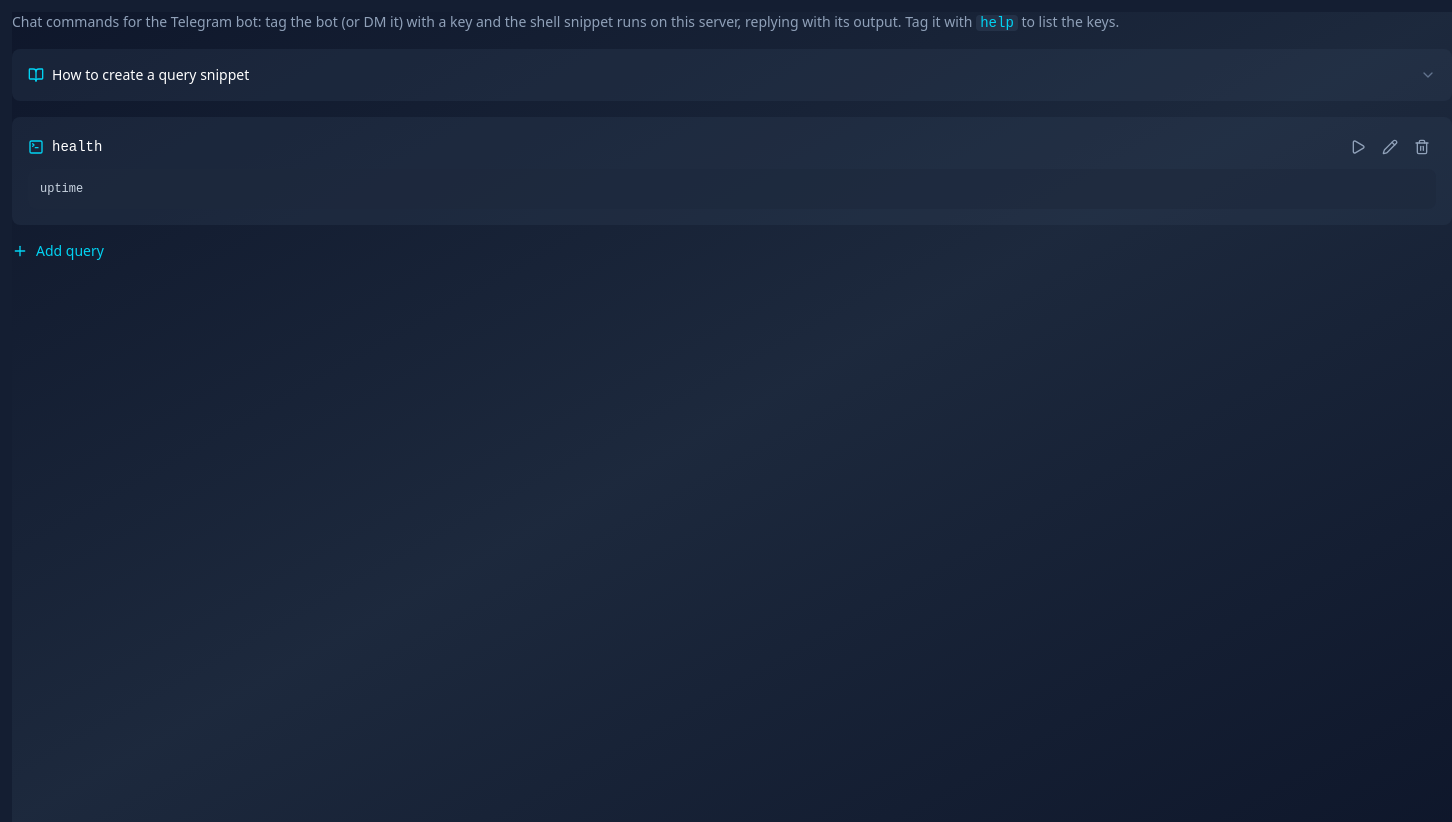
it: QueriesSettings - run and delete › shows the error, "(no output)", or a failure line in the output box
Expected: the text "health" is shown, [52, 137, 102, 157]
Click the button titled "Run now".
click(1358, 147)  # box [1344, 133, 1372, 161]
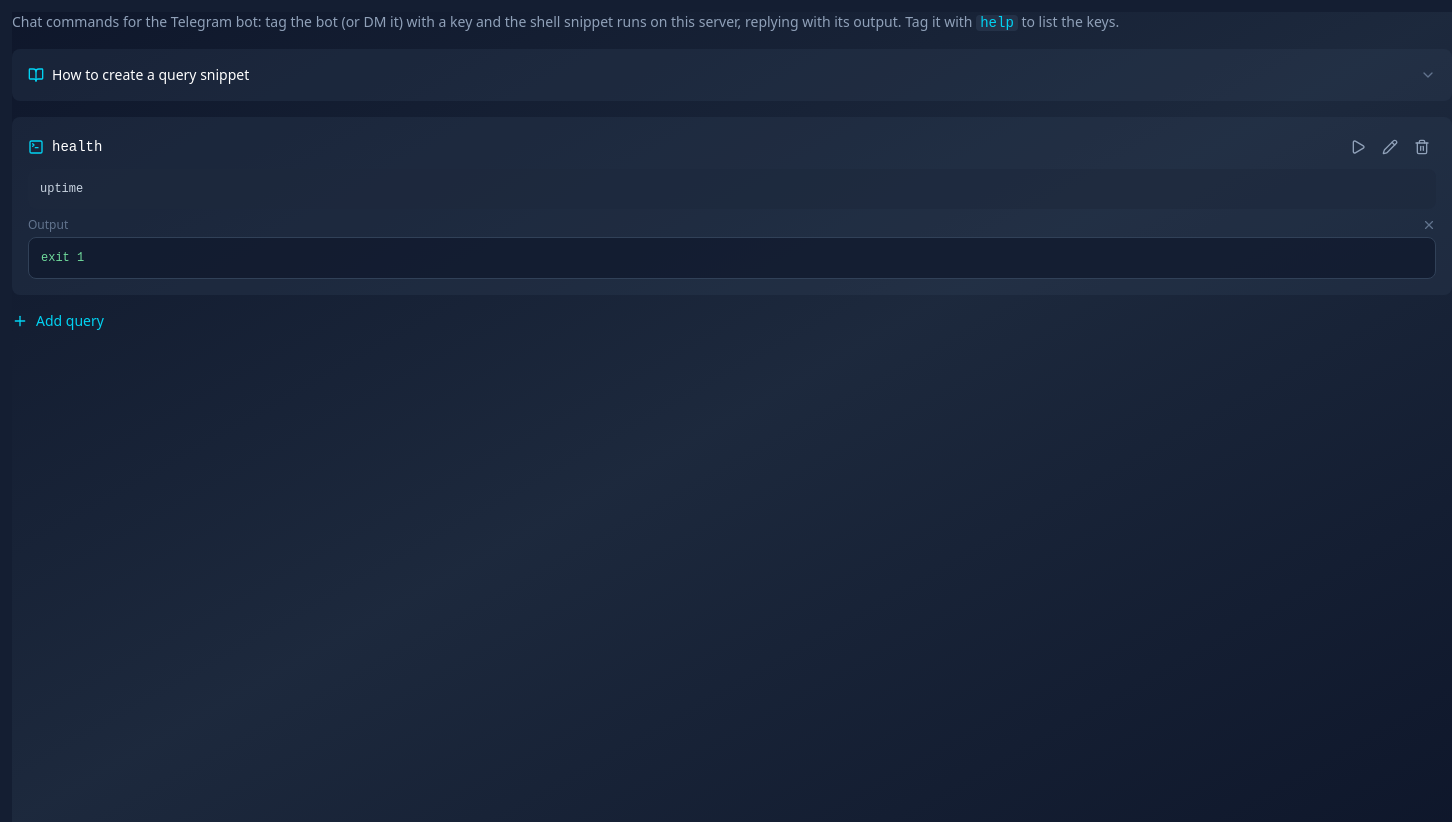
Expected: the text "exit 1" is shown, [28, 237, 1436, 279]
Click the button titled "Run now".
click(1358, 147)  # box [1344, 133, 1372, 161]
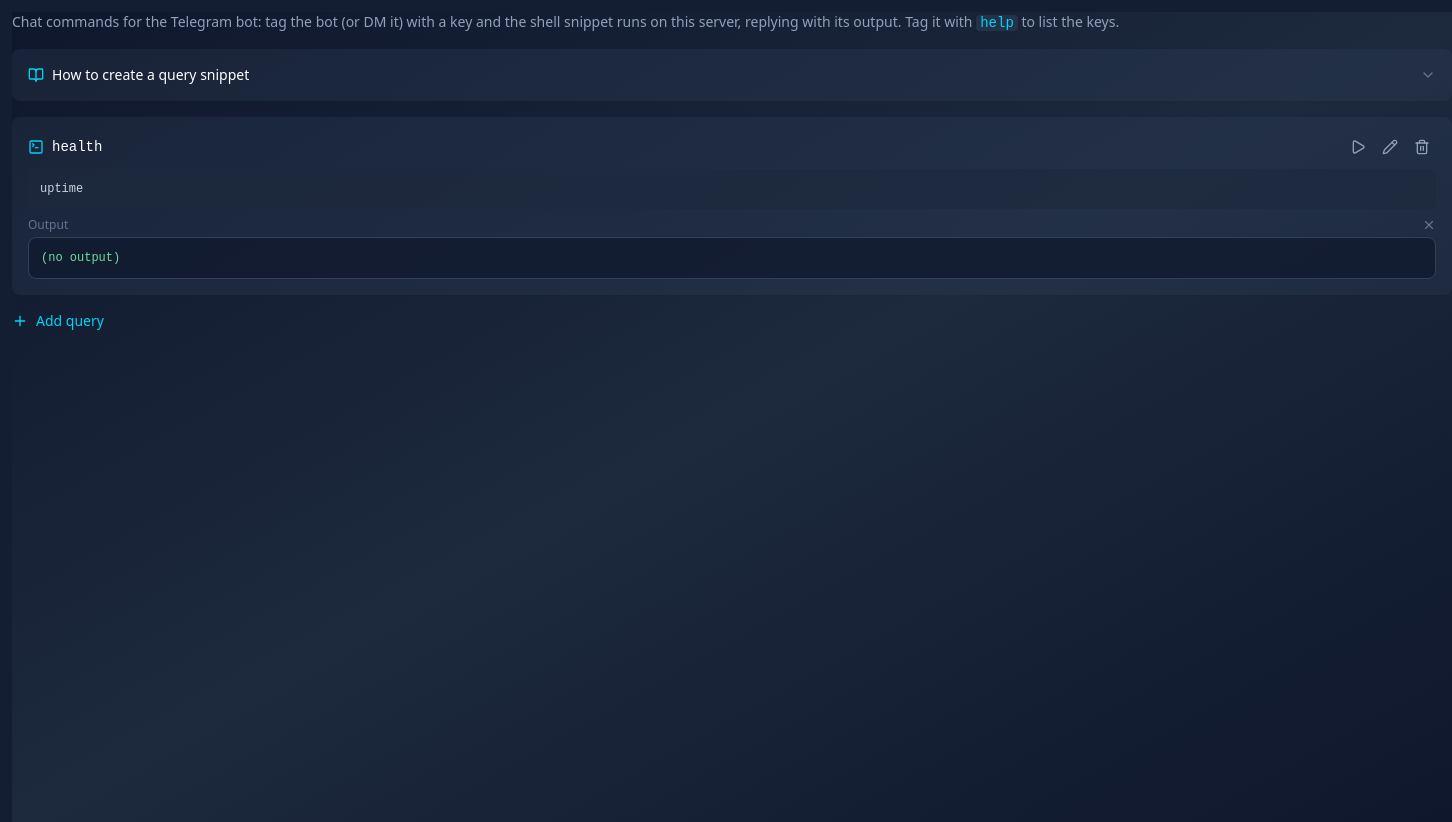
Expected: the text "(no output)" is shown, [28, 237, 1436, 279]
Click the button titled "Run now".
click(1358, 147)  # box [1344, 133, 1372, 161]
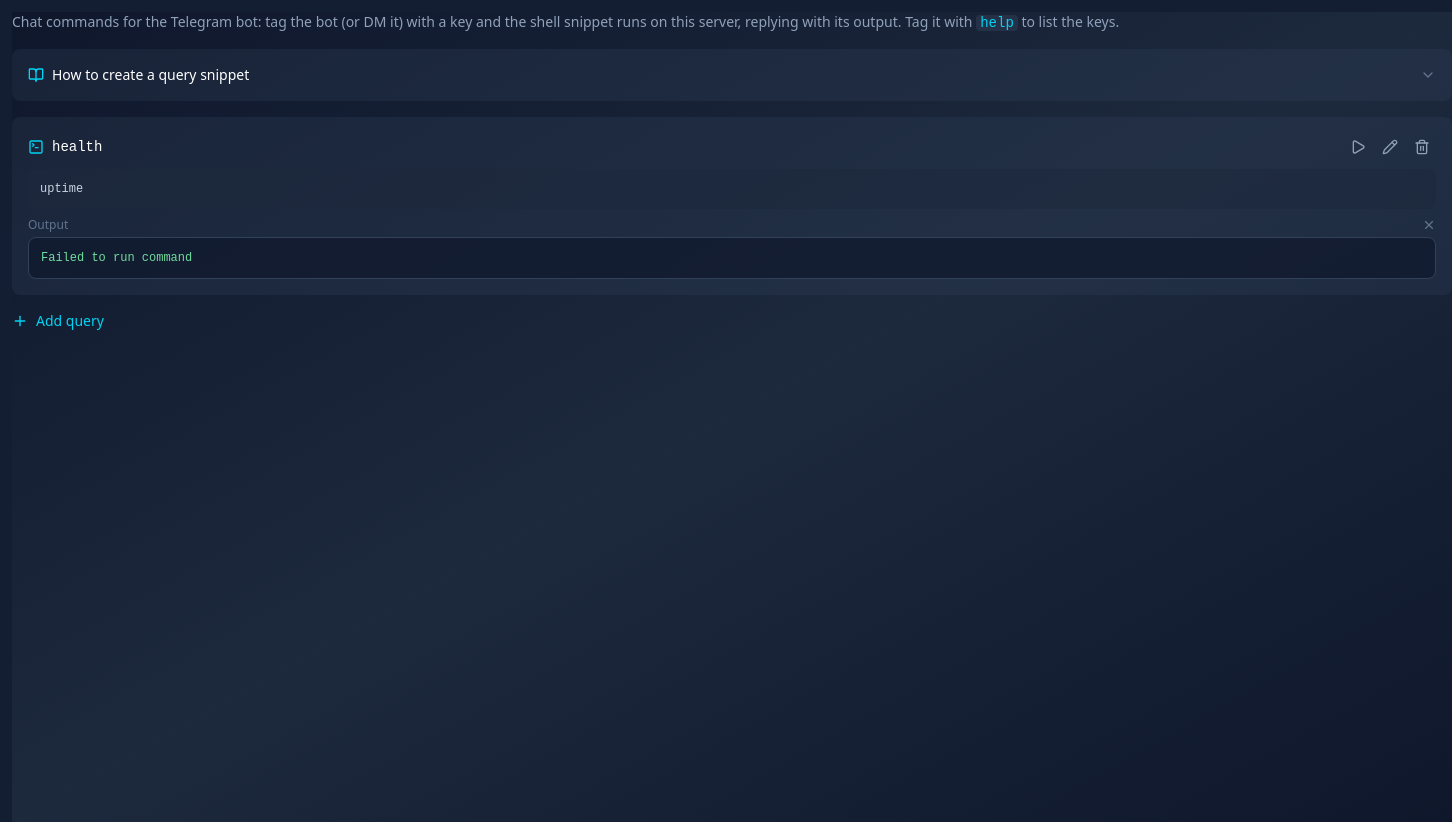
Expected: the text "Failed to run command" is shown, [28, 237, 1436, 279]
